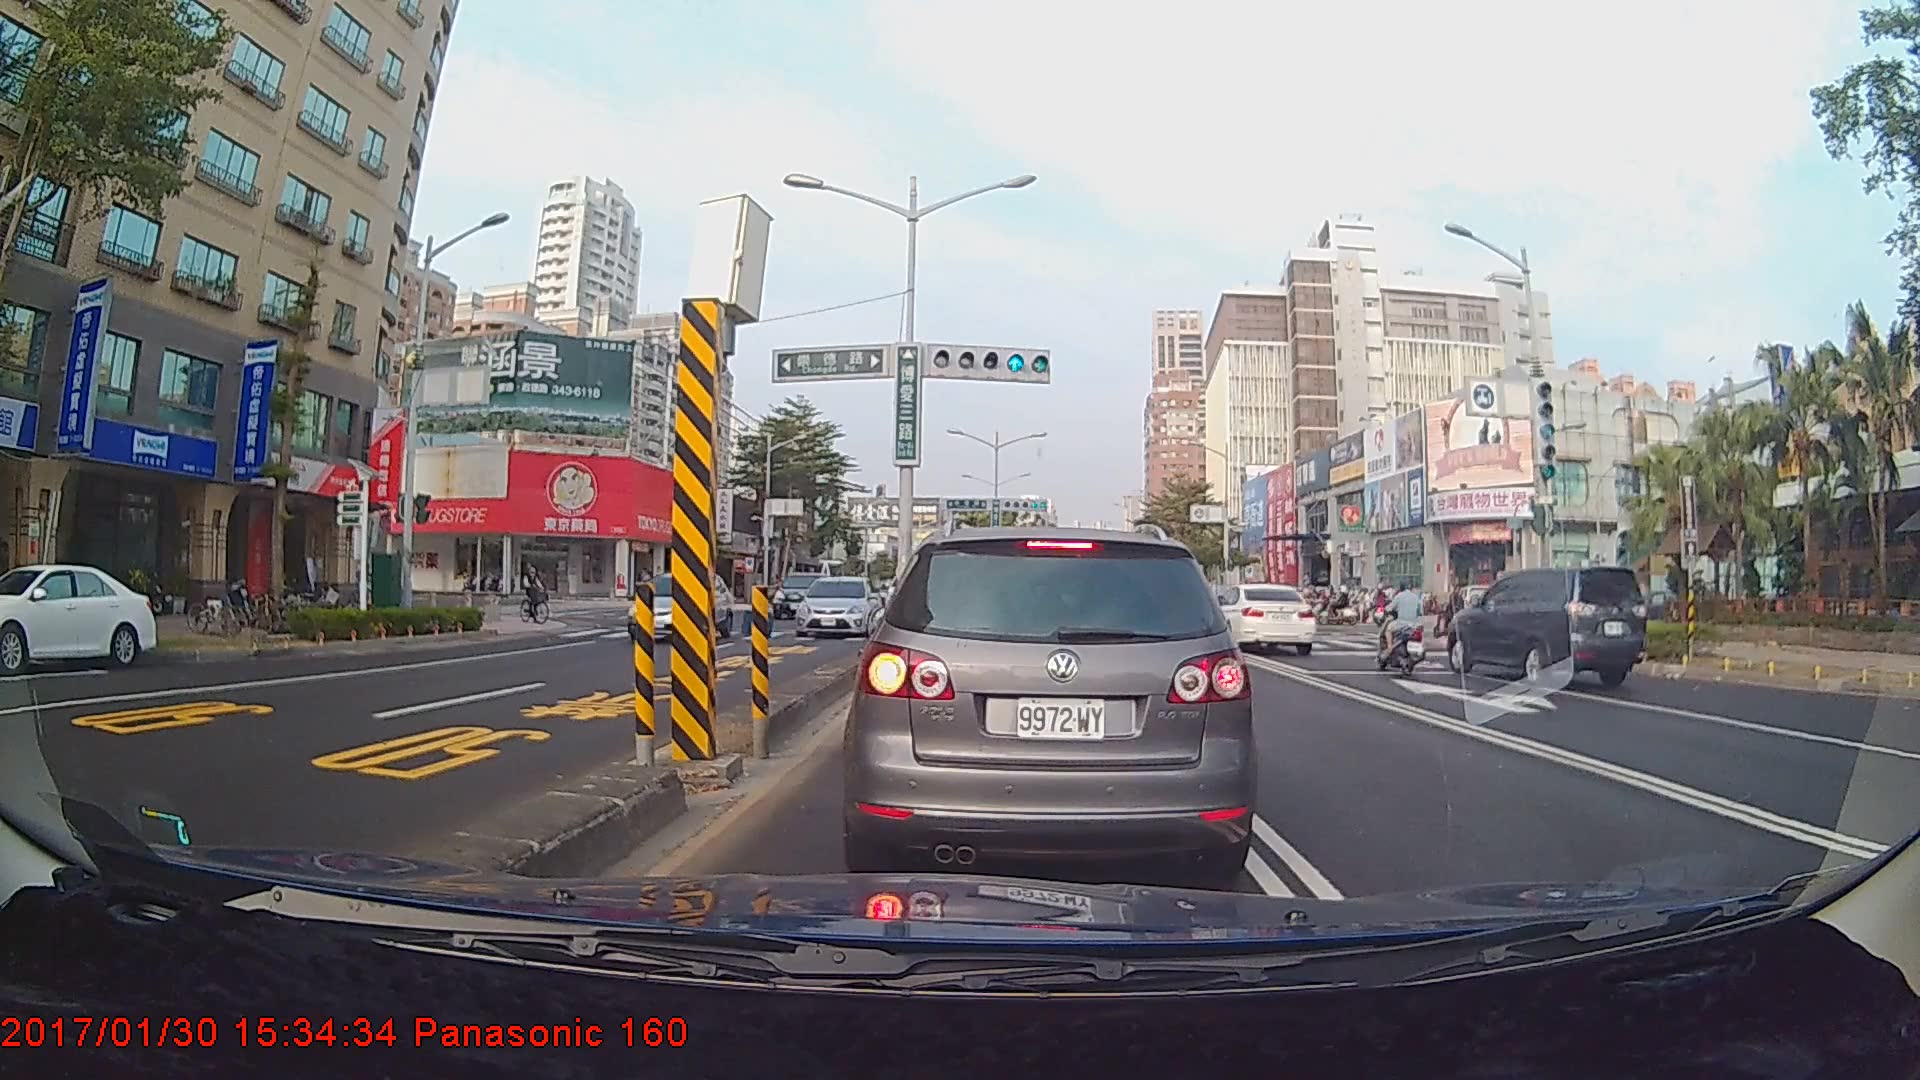rider: (1374, 580, 1436, 675), (518, 559, 561, 629)
vehicle: (855, 520, 1252, 873), (1445, 563, 1648, 685), (0, 561, 157, 671), (1203, 581, 1316, 655), (625, 568, 732, 644), (792, 573, 882, 638), (770, 571, 834, 620)
